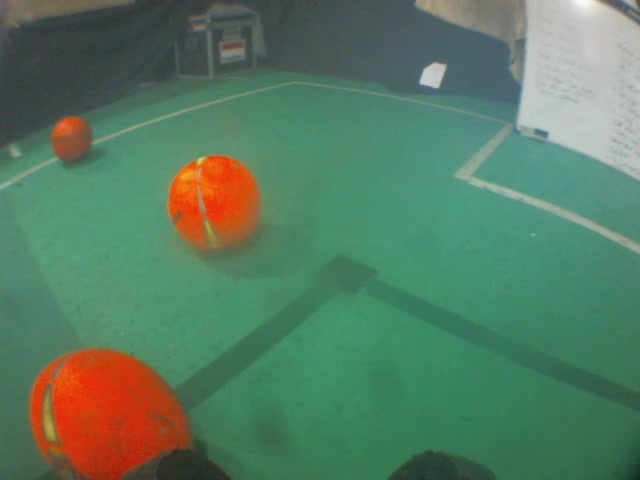ball: (26, 343, 202, 478), (162, 151, 267, 257), (46, 113, 99, 168)
